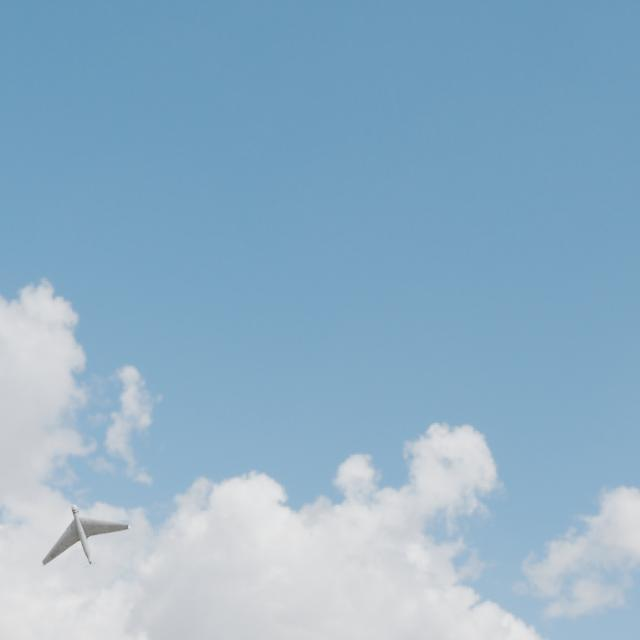Airaplan: (41, 505, 132, 568)
